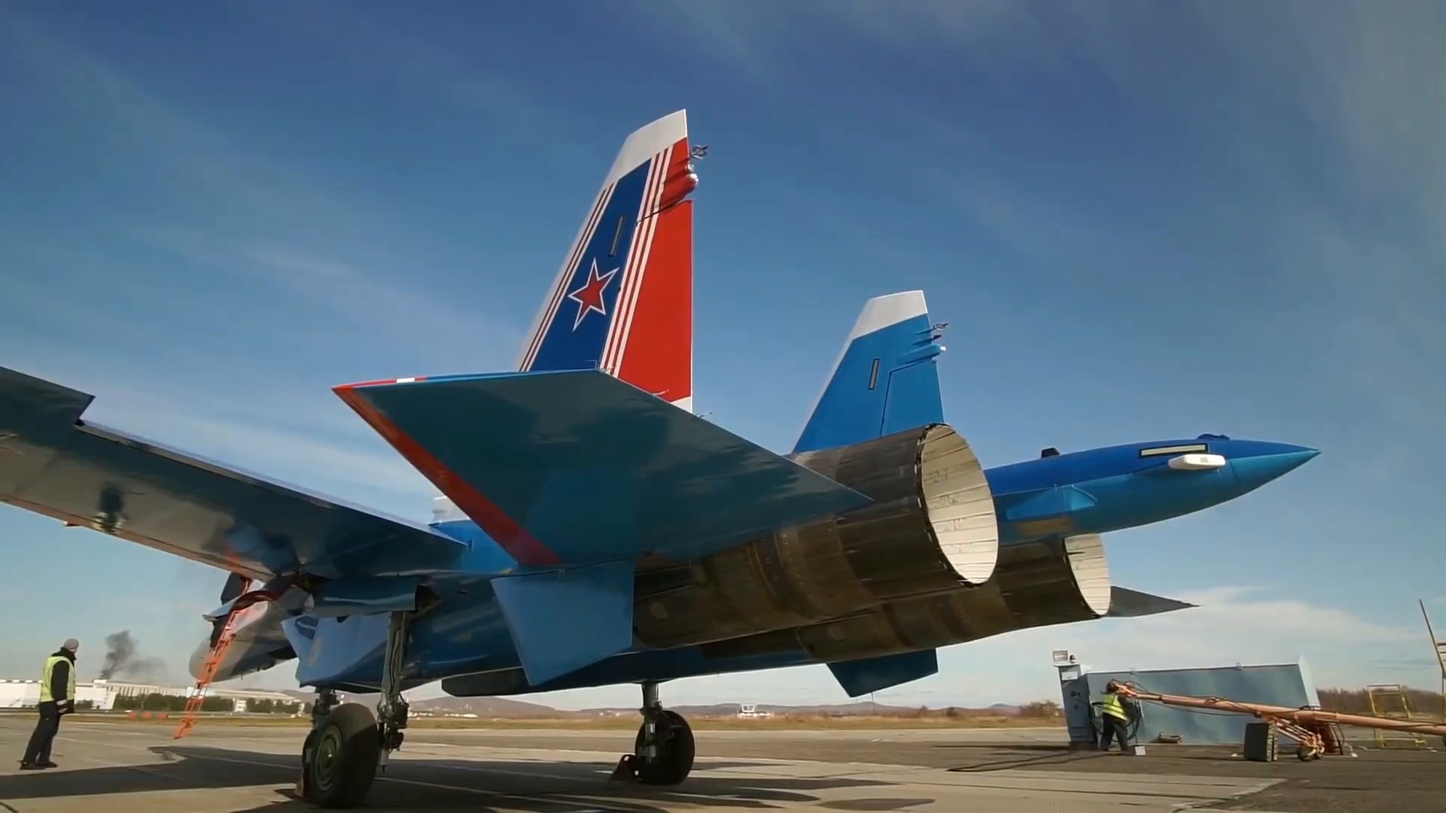Su35: (0, 110, 1319, 800)
